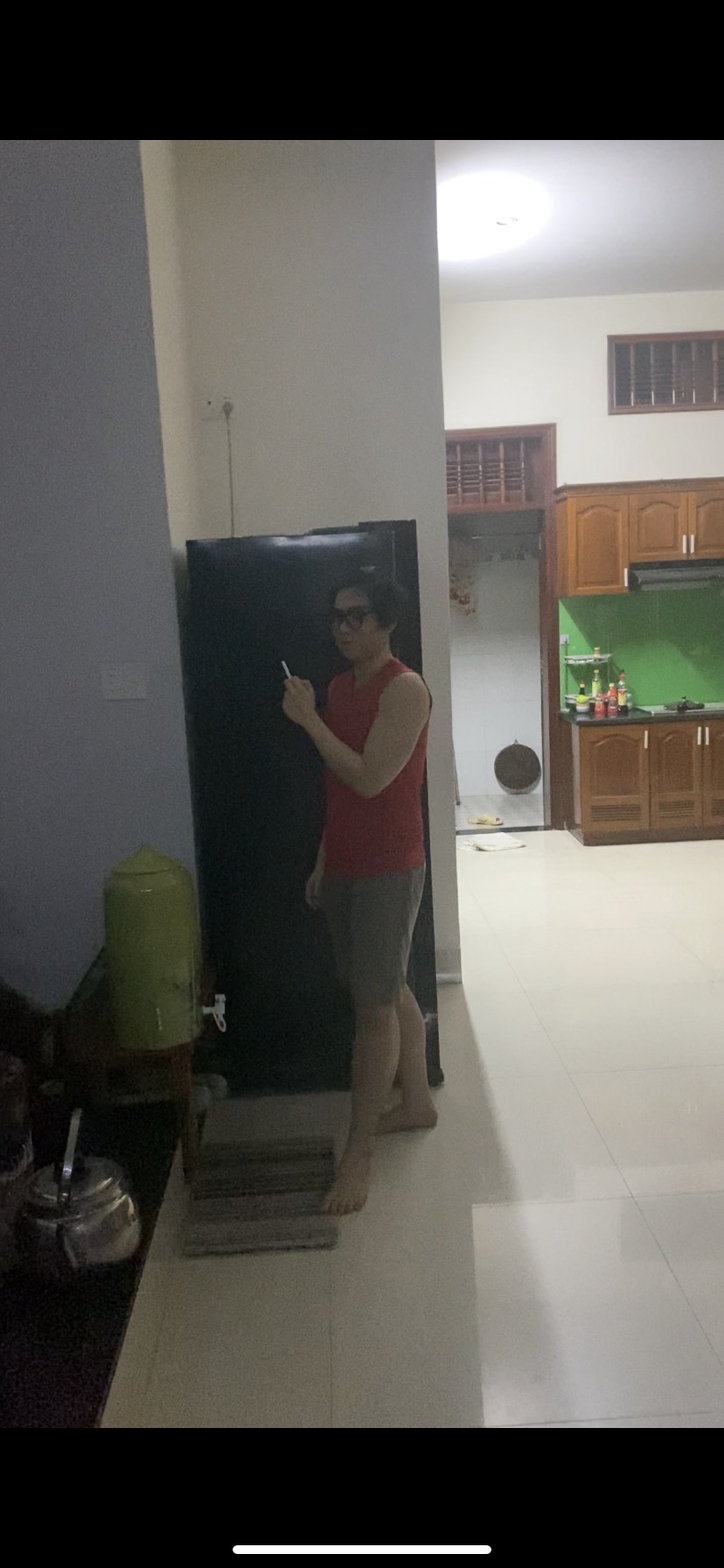cigarette: (279, 658, 294, 680)
person: (273, 556, 439, 1214)
